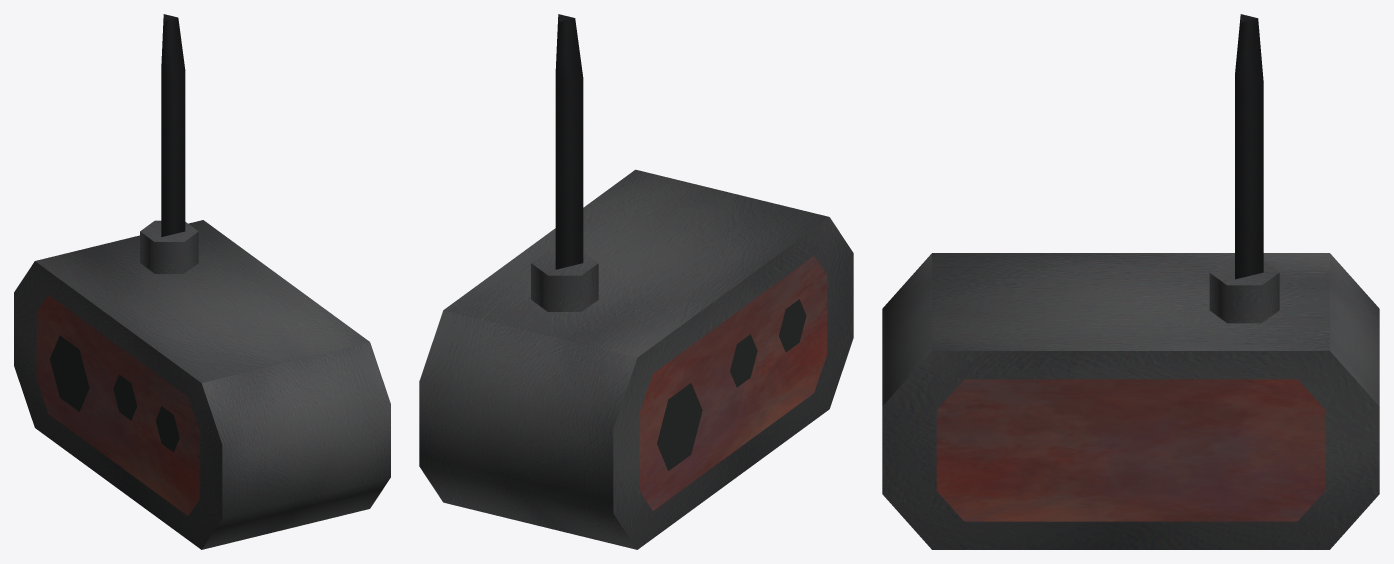
File: Radio.obj
The picture shows the model from 3 angles, left to right: view 1: azimuth 30°, elevation 25°; view 2: azimuth 150°, elevation 25°; view 3: azimuth 270°, elevation 25°; orthographic projection. The views are drawn at different scales.
Parts seen in each view (by area): view 1: Cube; view 2: Cube; view 3: Cube.
Boxes of the visible parts, x1,y1,x2,y2 form: Cube: (14, 14, 390, 549); Cube: (419, 14, 853, 549); Cube: (882, 14, 1379, 549).
Bounding box in the file's own units: 0.2473 × 0.5746 × 0.5271.
Materials: 3 (3 with a texture image).
